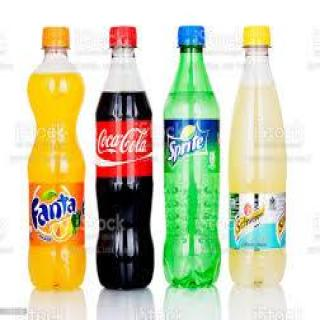Plastic-bottle: (25, 23, 90, 294), (95, 24, 158, 296), (227, 24, 291, 291), (164, 23, 225, 294)
